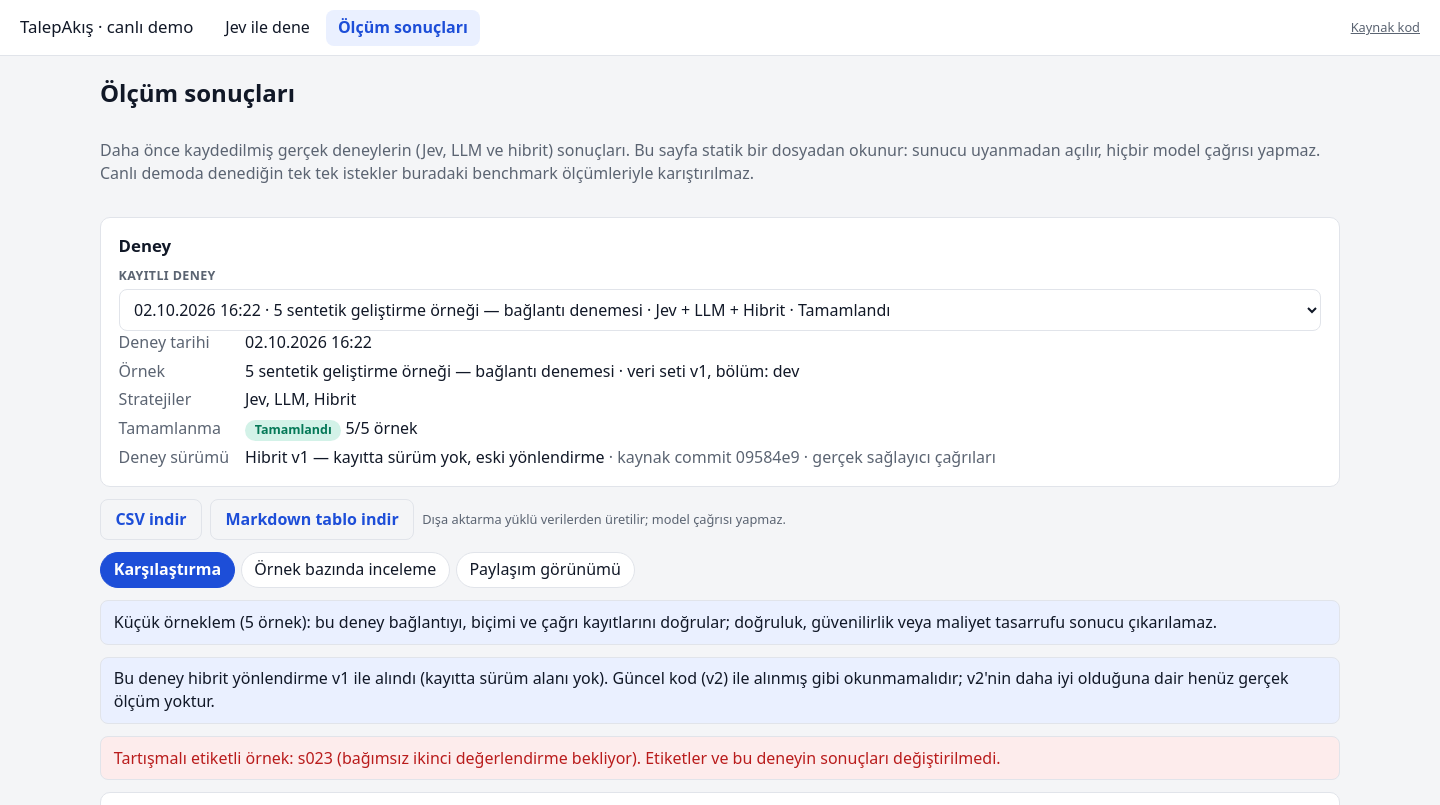
it: DemoApp (herkese açık demo derlemesi) › "Ölçüm sonuçları" statik dosyadan açılır; API (uyanma) beklenmez, API çağrısı yapılmaz
The width and height of the screenshot is (1440, 805).
Expected: the heading "Ölçüm sonuçları" is shown, [100, 76, 295, 111]
Expected: the text "karıştırılmaz" is shown, [100, 139, 1320, 184]
Click the link "Jev ile dene" at x=268, y=27, box [225, 16, 310, 38]
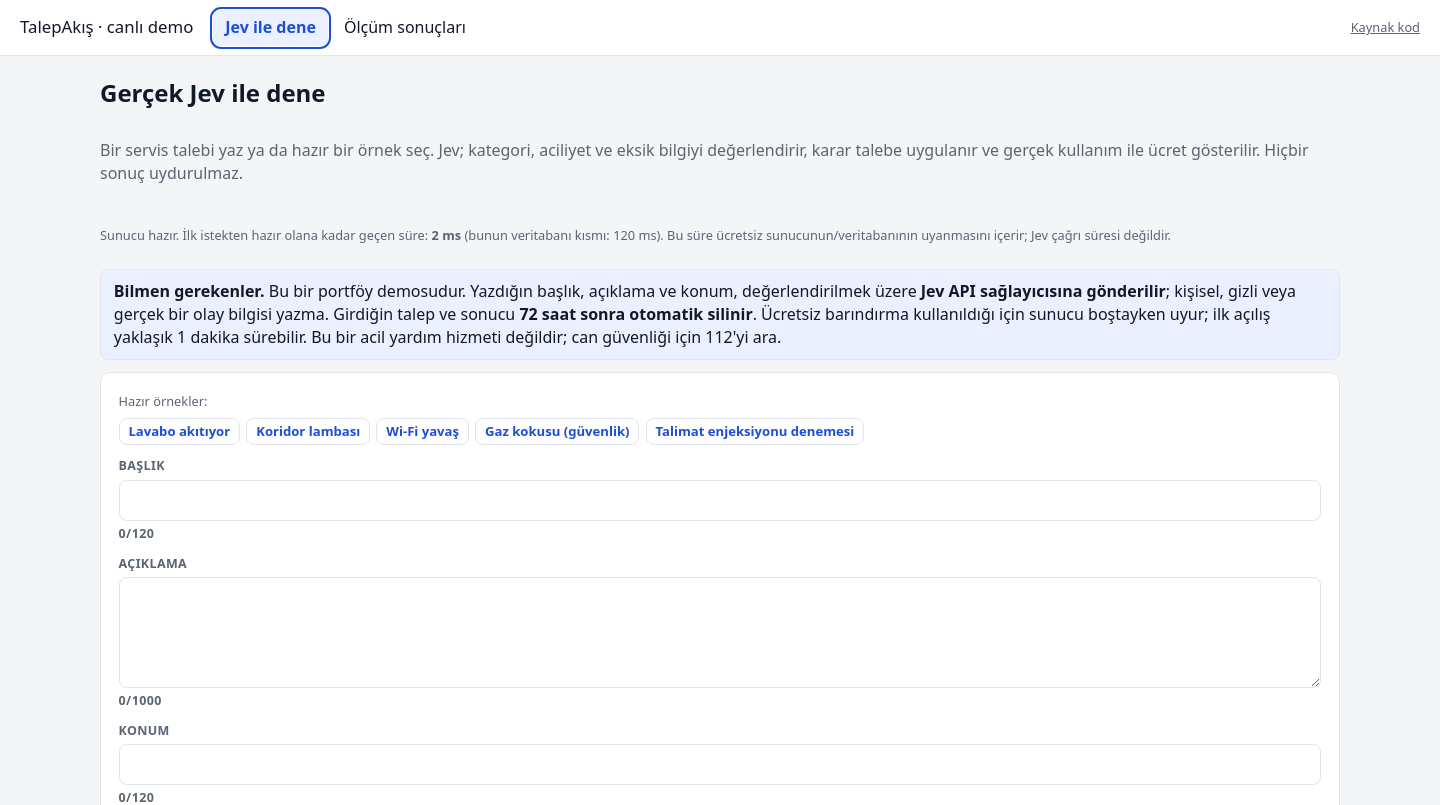
Expected: the heading "Gerçek Jev ile dene" is shown, [100, 76, 326, 111]
